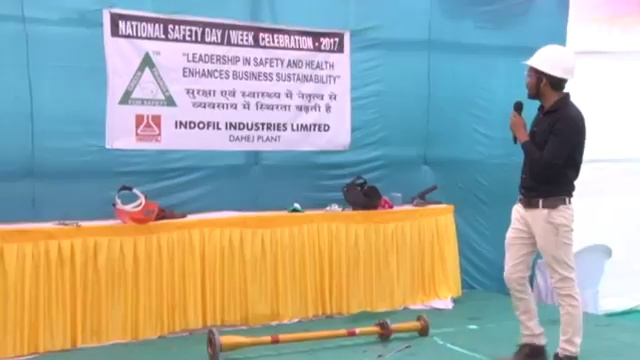helmet: (520, 43, 576, 81)
helmet_on: (518, 41, 578, 102)
person: (497, 40, 587, 360)
